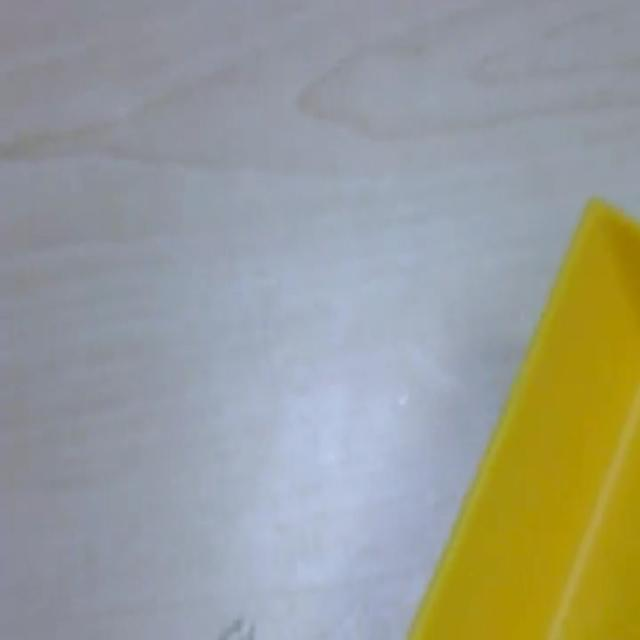yellow_block: (404, 195, 638, 637)
